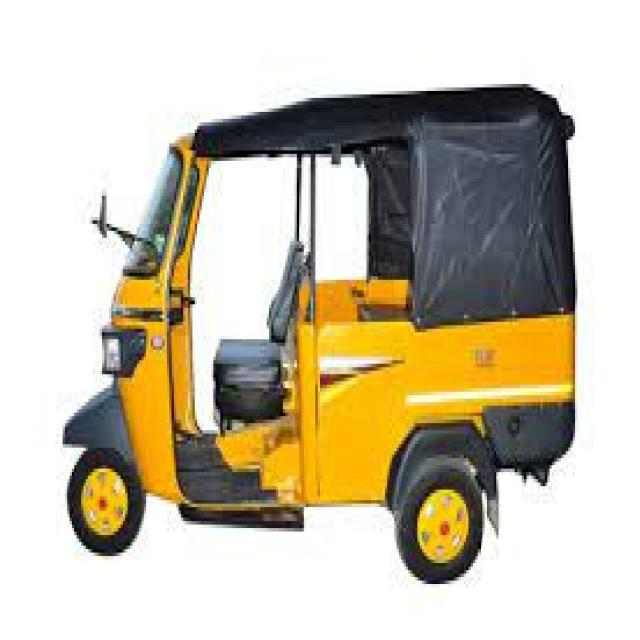Auto: (46, 71, 603, 560)
